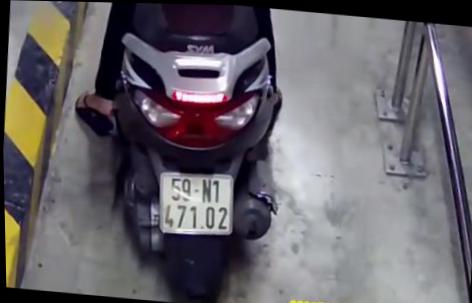LP: (153, 167, 237, 239)
